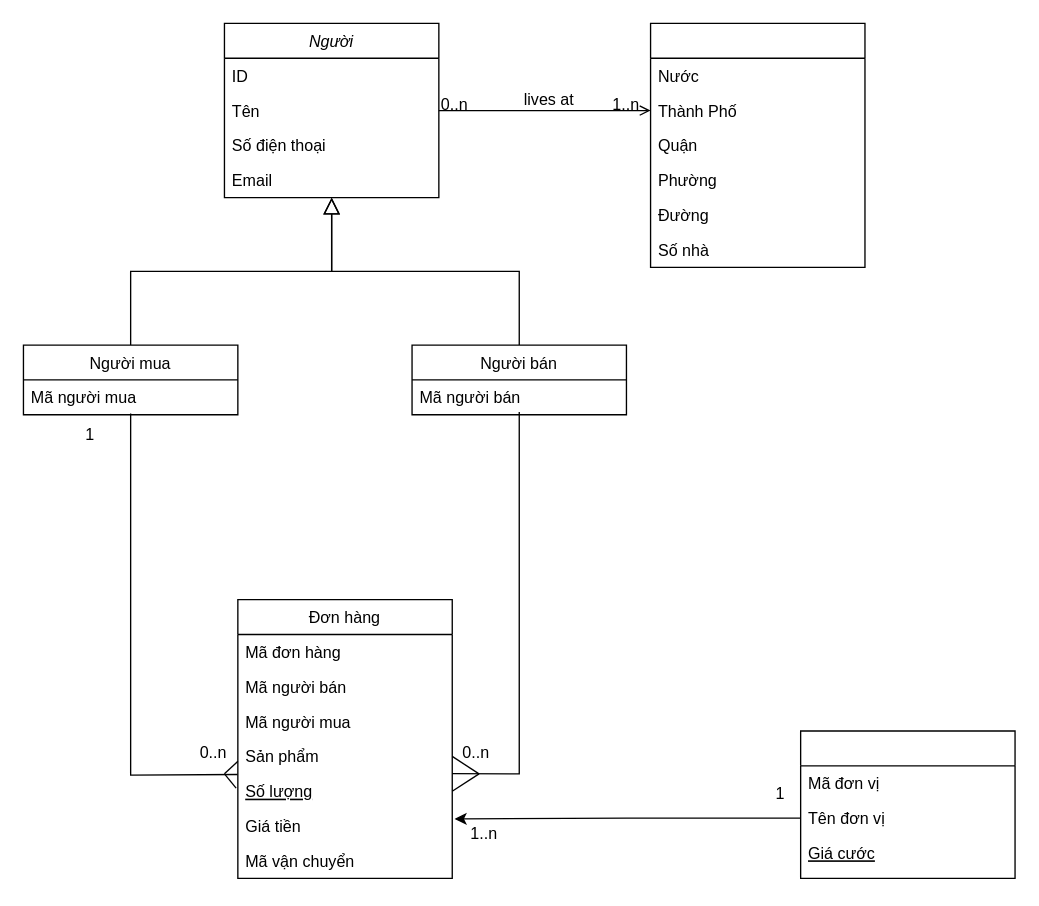
Some shapes in this 1039 by 906 pixel diagram are drawn without their labels. The shapes that lost their labels are listed below. From the top down, each one's box as (x1, y1, x2, y2) in pixels, then its label:
(649, 22, 865, 267): Địa chỉ
(799, 730, 1015, 878): Đơn vị vận chuyển
